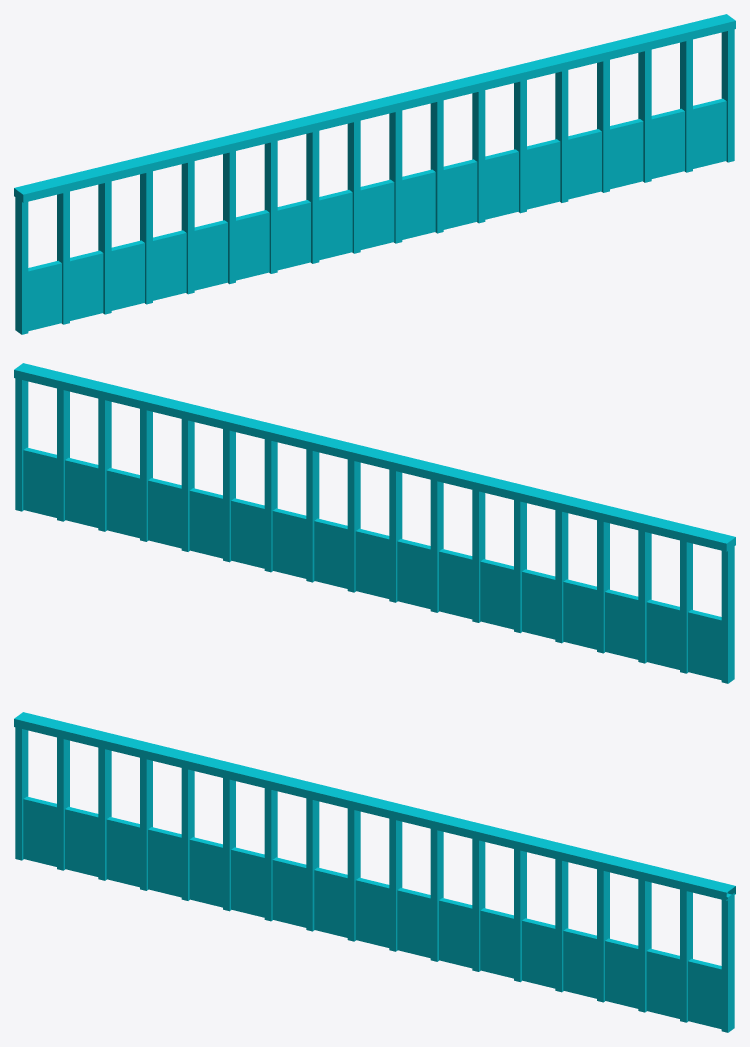
The model's file is Partitions_076.glb.
The picture shows the model from 3 angles, top to bottom: view 1: azimuth 30°, elevation 25°; view 2: azimuth 150°, elevation 25°; view 3: azimuth 330°, elevation 25°; orthographic projection.
Parts seen in each view (by area): view 1: Partitions_076; view 2: Partitions_076; view 3: Partitions_076.
Boxes of the visible parts, left/top/right/bottom form: Partitions_076: left=14, top=14, right=735, bottom=334; Partitions_076: left=14, top=363, right=735, bottom=683; Partitions_076: left=14, top=712, right=735, bottom=1032.
Size of the model in its own units: 4 by 0.7574 by 0.0898.
1 material, 1 textured.
